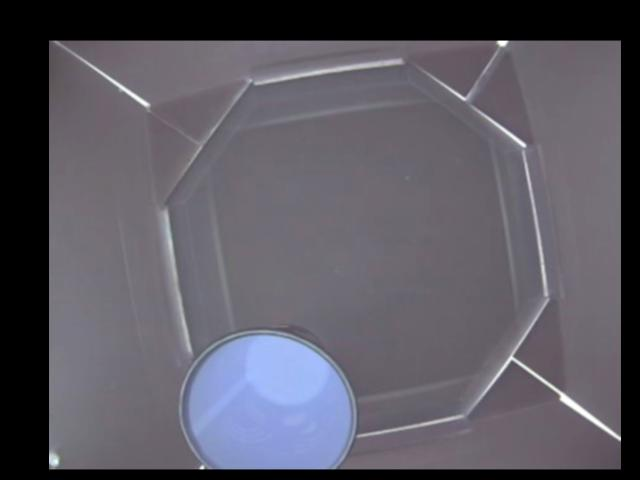Cup: (176, 326, 357, 469)
